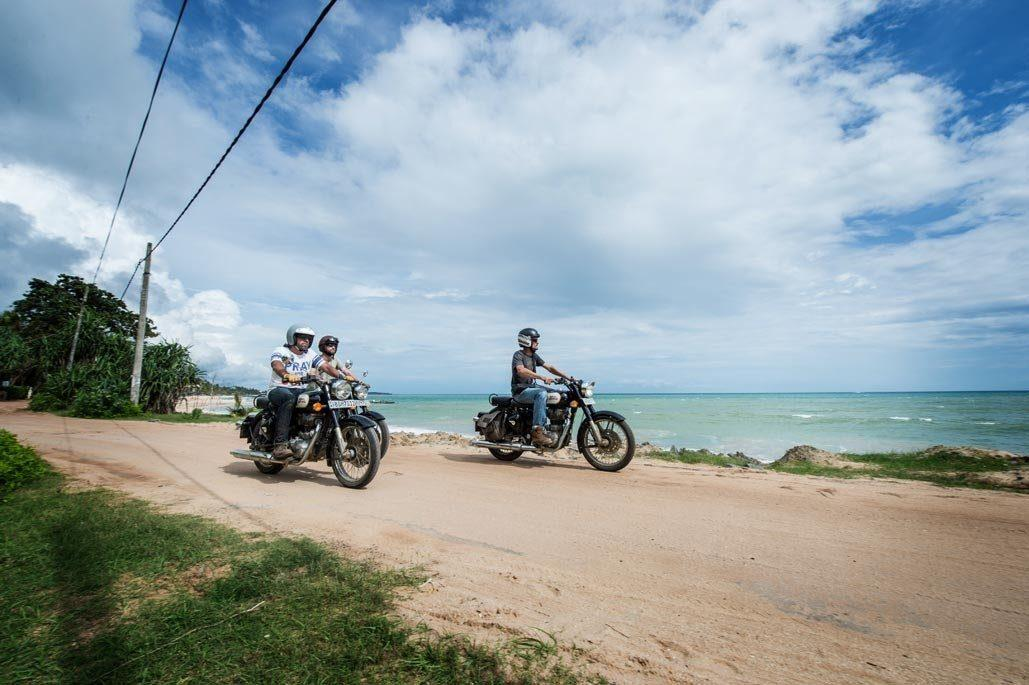motorbike: (228, 353, 381, 489), (470, 376, 637, 472)
